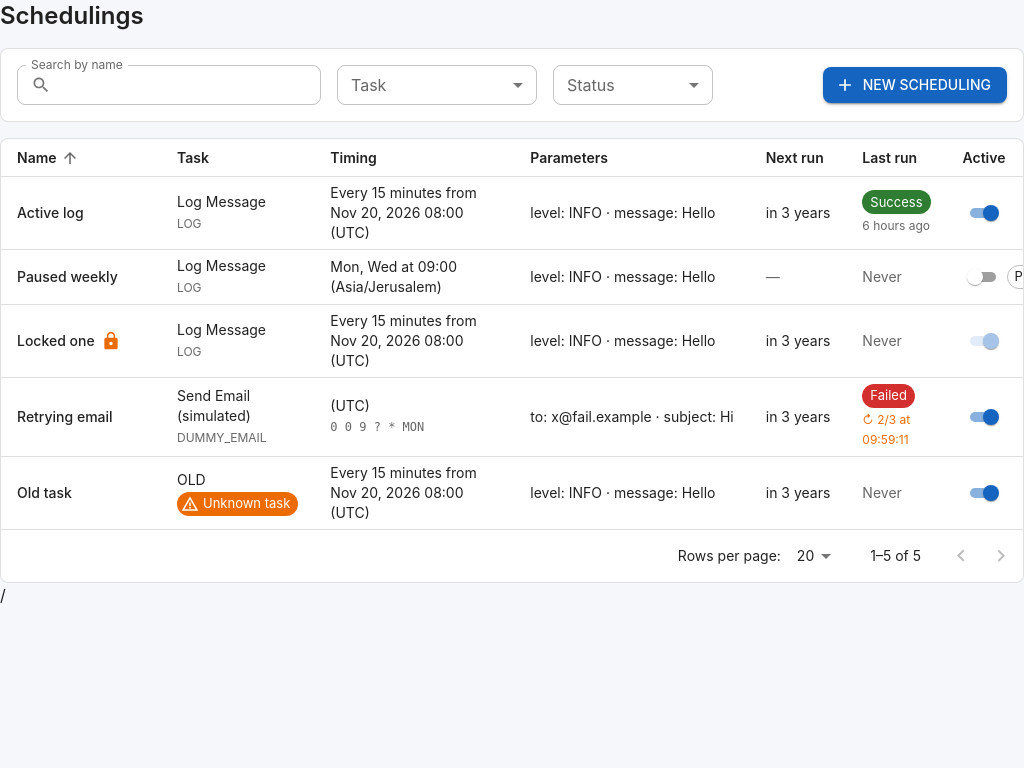
SchedulingsPage › explains why resuming is blocked and goes to the active duplicate
The width and height of the screenshot is (1024, 768).
Expected: the text "Paused weekly" is shown, [17,267,118,287]
Click the switch named "Active: Paused weekly". click: click(974, 277)
box: [966,269,982,285]
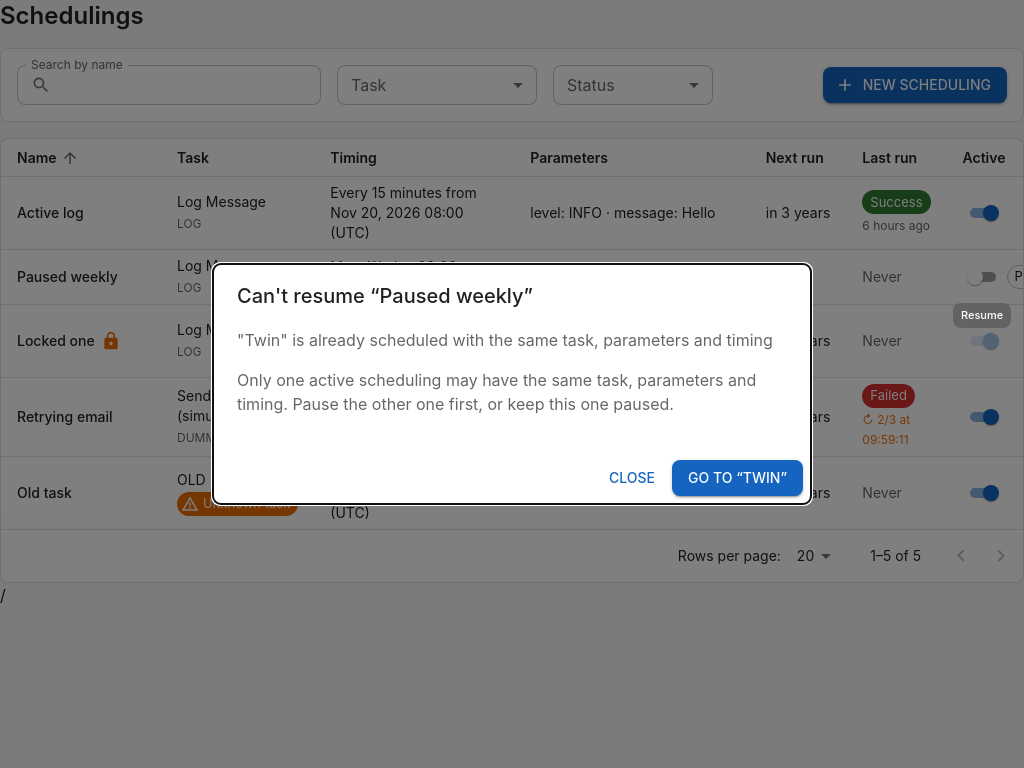
Expected: the text "\"Twin\" is already scheduled" is shown, [237,330,773,350]
Click the button "Go to “Twin”". click: click(738, 478)
box: [672,460,803,496]
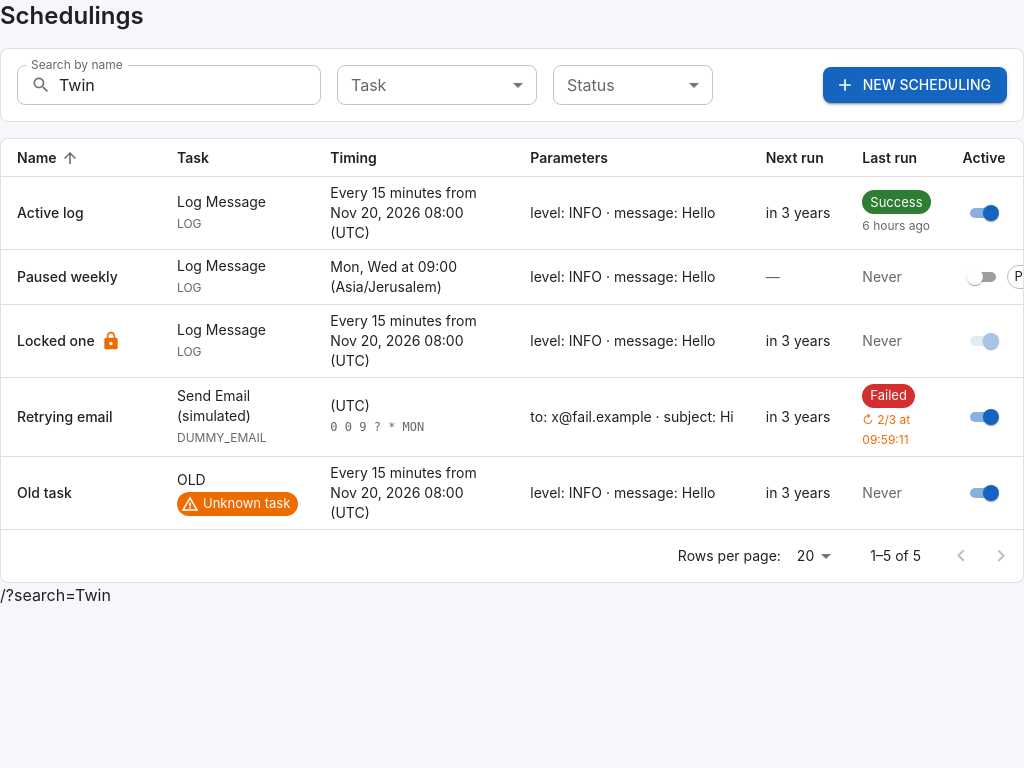
Expected: the text with test id "location" reads "/?search=Twin", [0,585,111,605]
